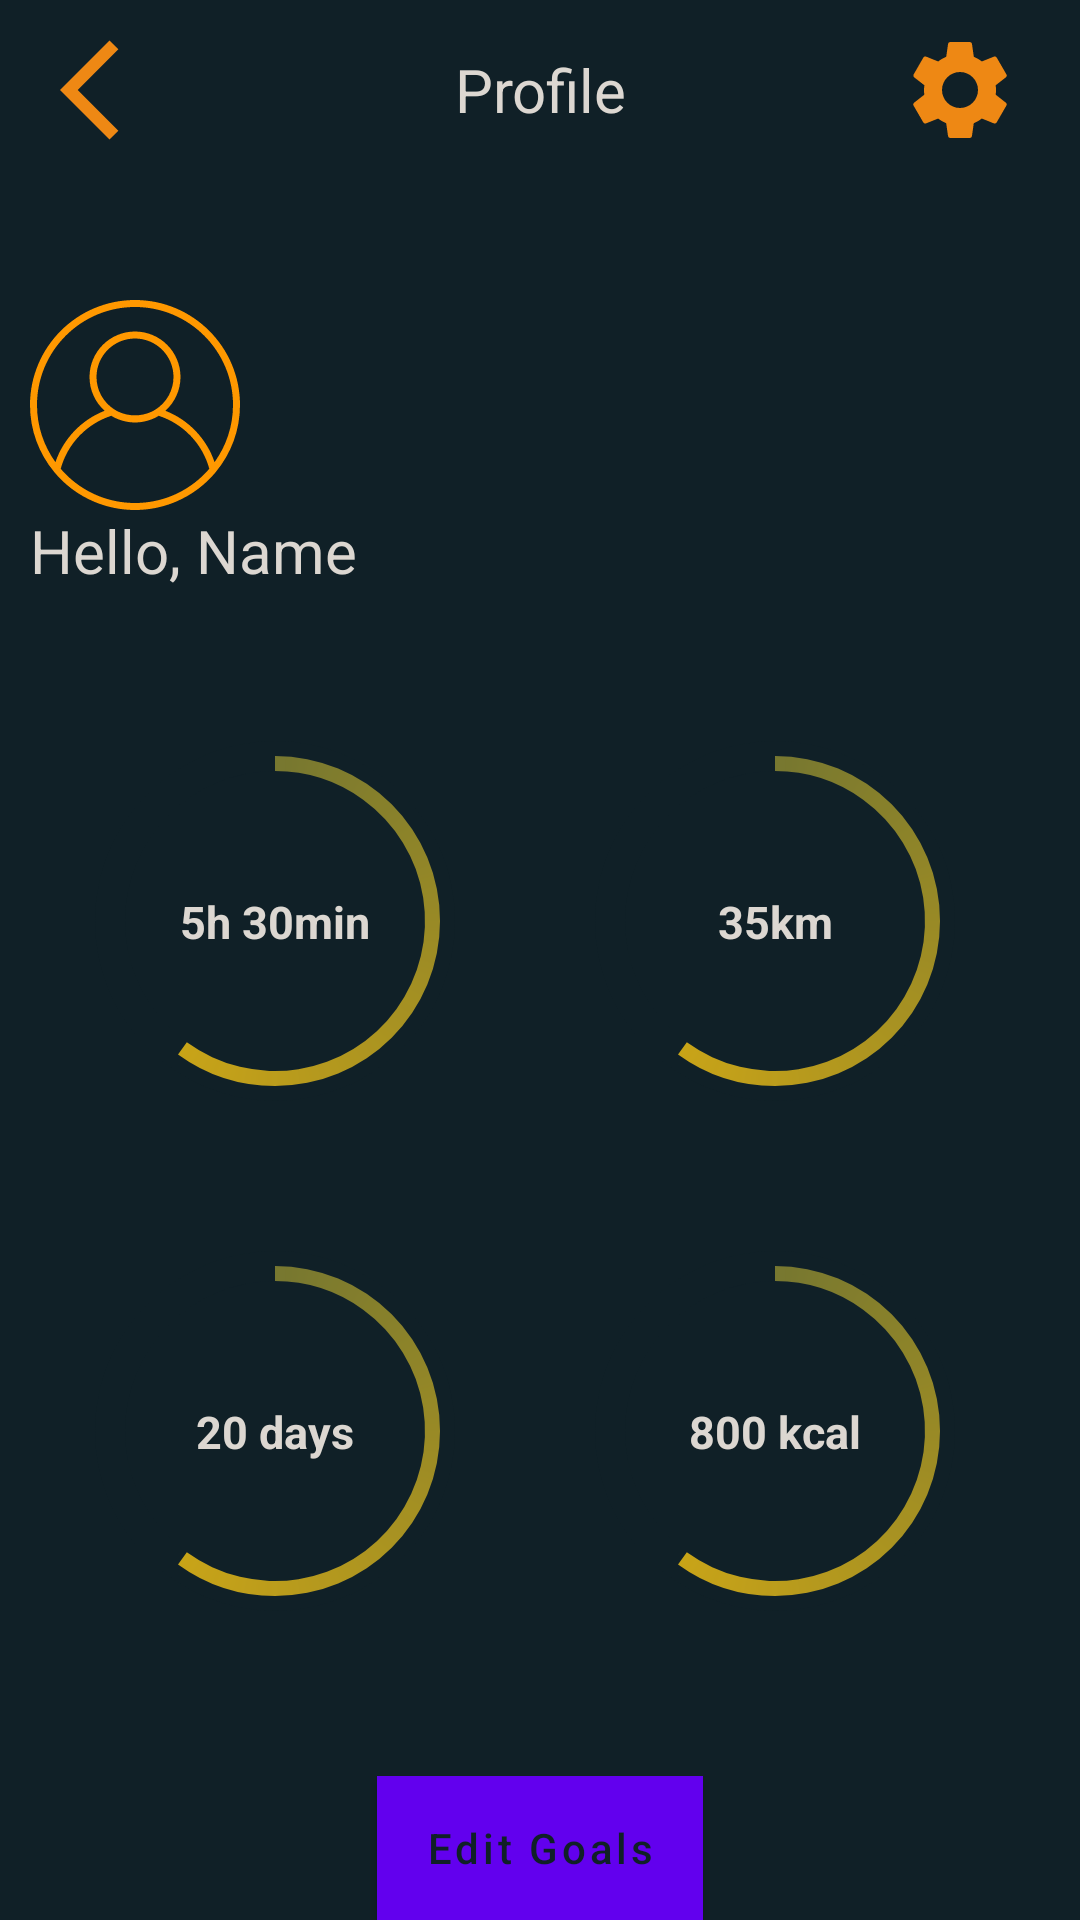

Screen size 1080w x 1920h. Icon name, then its box in pixels as (x1, y1, x2, y2):
arrow back: (60, 40, 119, 140)
settings: (913, 42, 1007, 138)
user: (30, 300, 240, 510)
